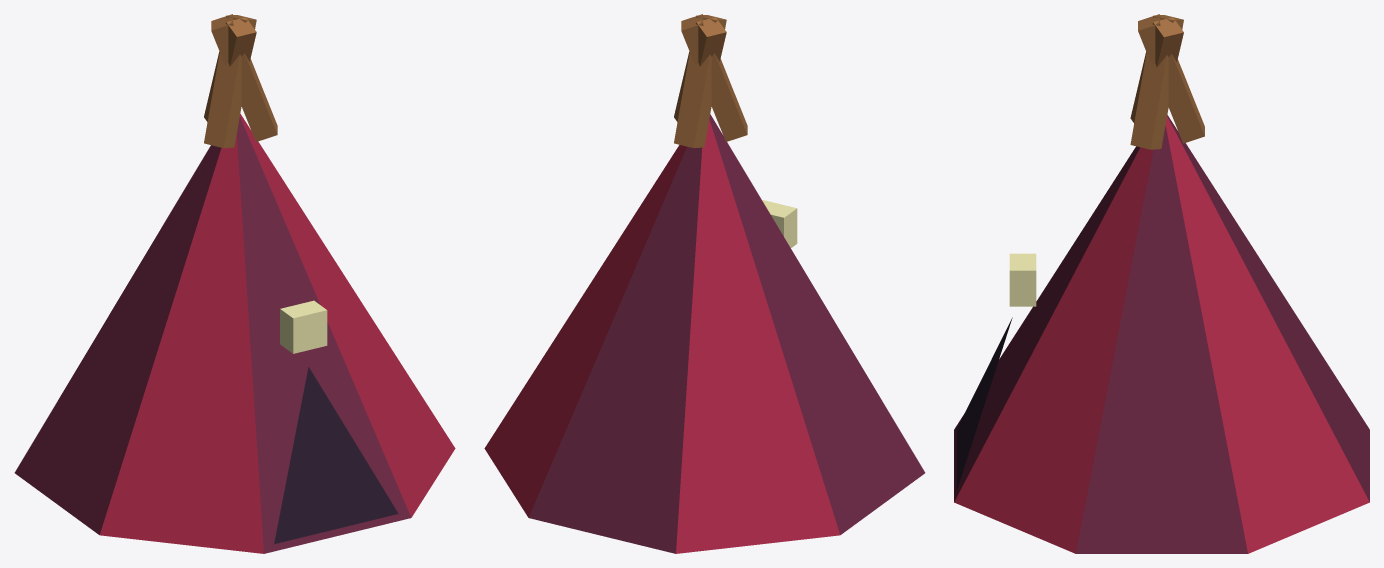
File: tent.glb
The picture shows the model from 3 angles, left to right: view 1: azimuth 30°, elevation 25°; view 2: azimuth 150°, elevation 25°; view 3: azimuth 270°, elevation 25°; orthographic projection.
Parts seen in each view (by area): view 1: Model; view 2: Model; view 3: Model.
Part boxes in pixels (box(x1,y1,x2,y2)): Model: box(14, 14, 455, 553); Model: box(484, 14, 925, 553); Model: box(954, 14, 1369, 553).
Size of the model in its own units: 1.26 by 1.49 by 1.26.
